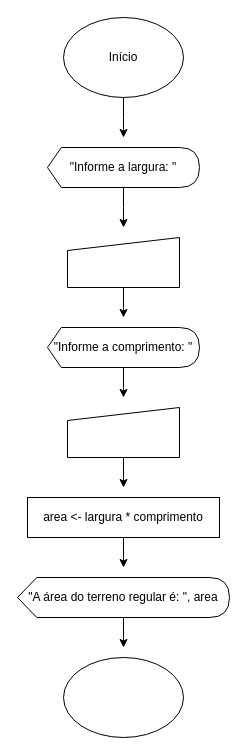
This 247x755 diagram has some shape labels left out. Each missing label, with the centre of its shape:
"comprimento" goes at (x=123, y=432).
"FIM" goes at (x=123, y=697).
"largura" goes at (x=123, y=262).
